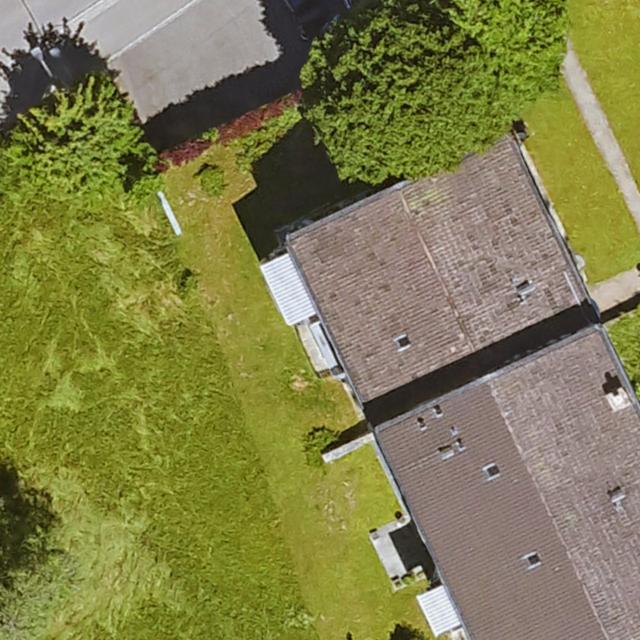tree: (294, 0, 569, 178), (0, 69, 144, 195)
